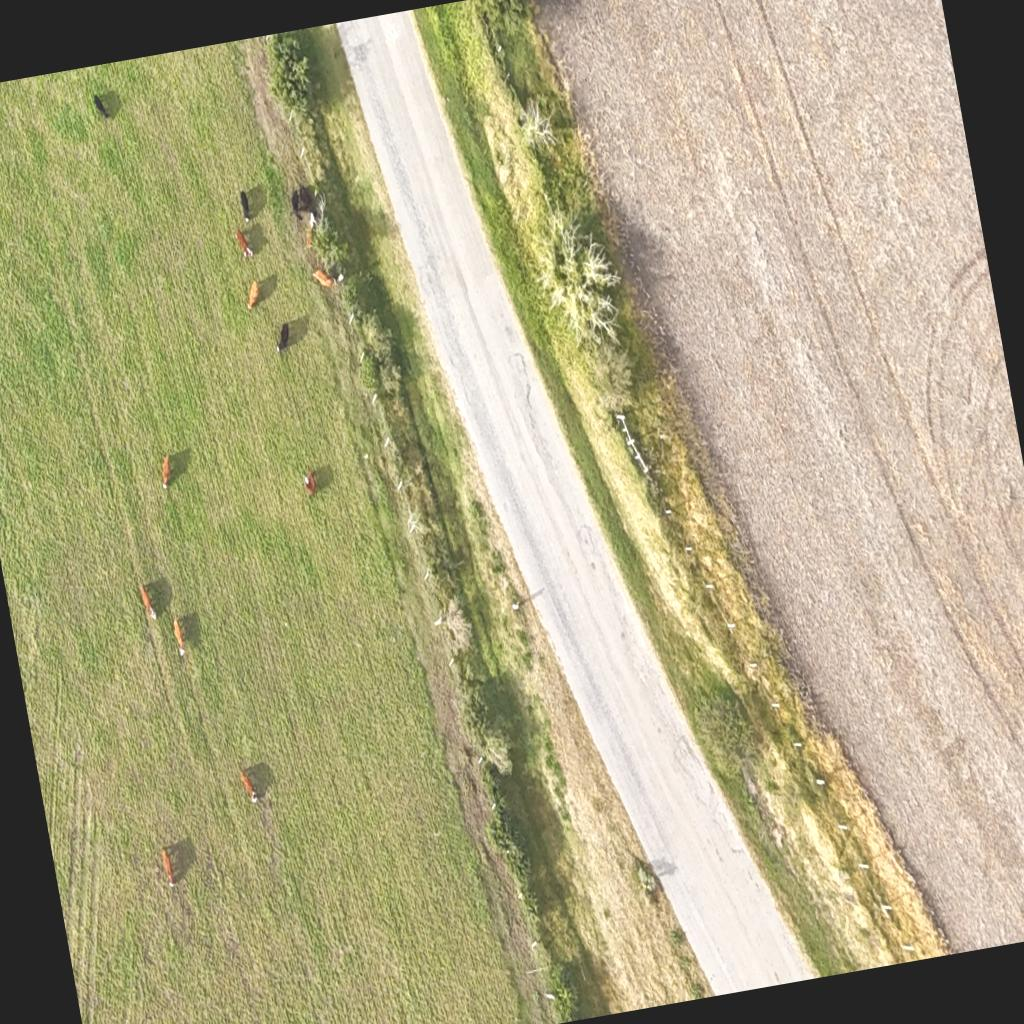cow: (160, 843, 182, 890), (300, 212, 322, 254), (242, 276, 264, 312), (296, 180, 318, 216), (240, 769, 260, 807), (234, 228, 254, 264), (140, 584, 158, 624), (298, 465, 320, 497), (312, 266, 338, 293), (272, 321, 292, 354), (92, 92, 112, 123), (173, 614, 190, 650), (158, 455, 174, 492), (289, 187, 304, 226), (238, 189, 252, 227)
